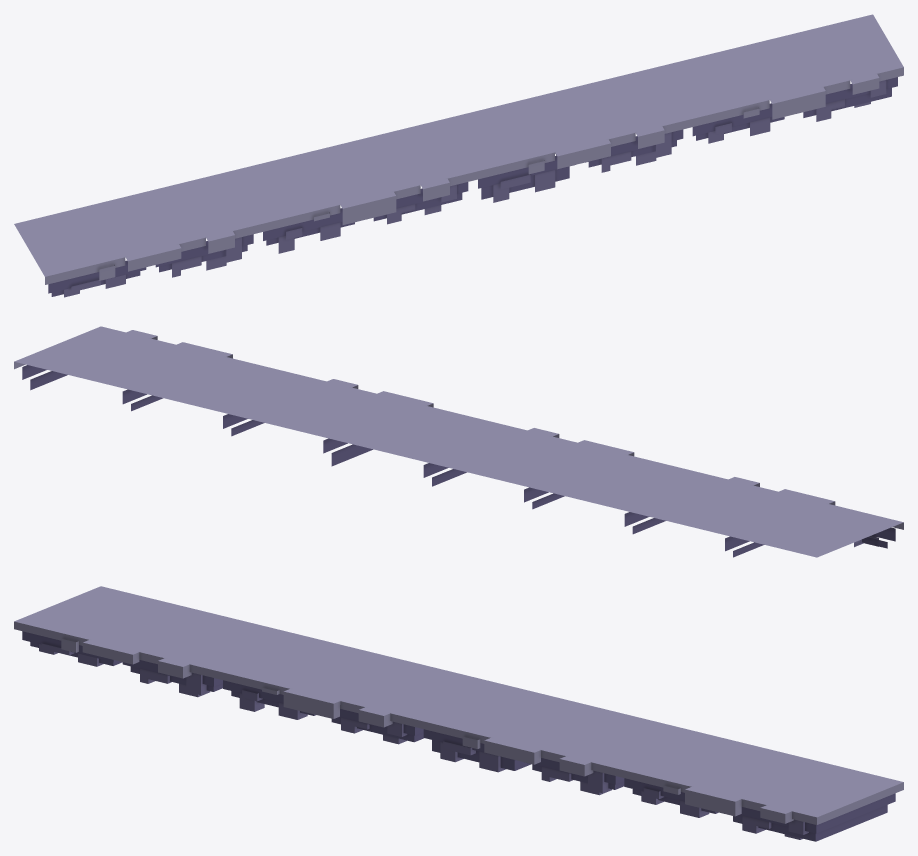
File: Field_Type_02_06.FBX
The picture shows the model from 3 angles, top to bottom: view 1: azimuth 30°, elevation 25°; view 2: azimuth 150°, elevation 25°; view 3: azimuth 330°, elevation 25°; orthographic projection. The views are drawn at different scales.
Parts seen in each view (by area): view 1: Field_Type_02_06; view 2: Field_Type_02_06; view 3: Field_Type_02_06.
Part boxes in pixels (x1=…): Field_Type_02_06: x1=14, y1=14, x2=903, y2=297; Field_Type_02_06: x1=14, y1=326, x2=903, y2=557; Field_Type_02_06: x1=14, y1=586, x2=903, y2=841.
Size of the model in its own units: 179 by 7.76 by 23.21.
